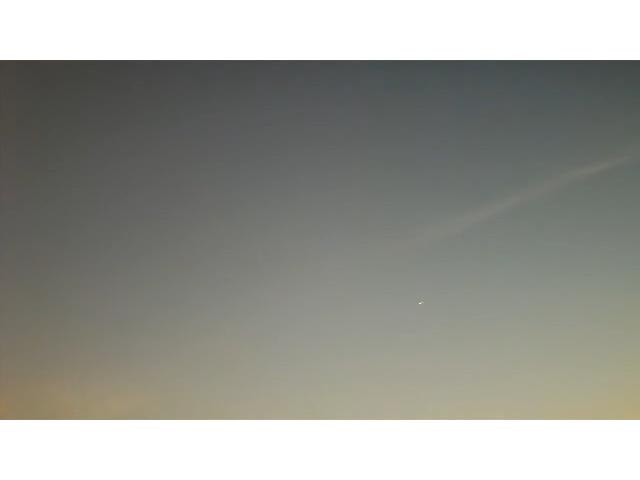Anti-Drone: (416, 296, 432, 308)
